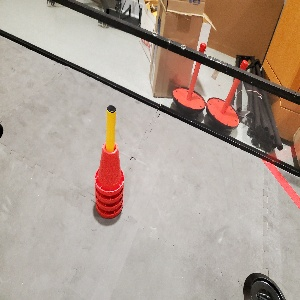Red_4: (90, 139, 125, 221)
